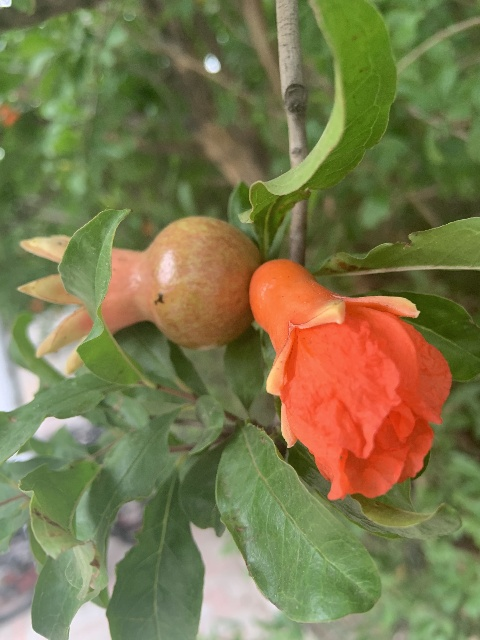early-fruit: (15, 214, 261, 374)
flower: (249, 259, 450, 502)
